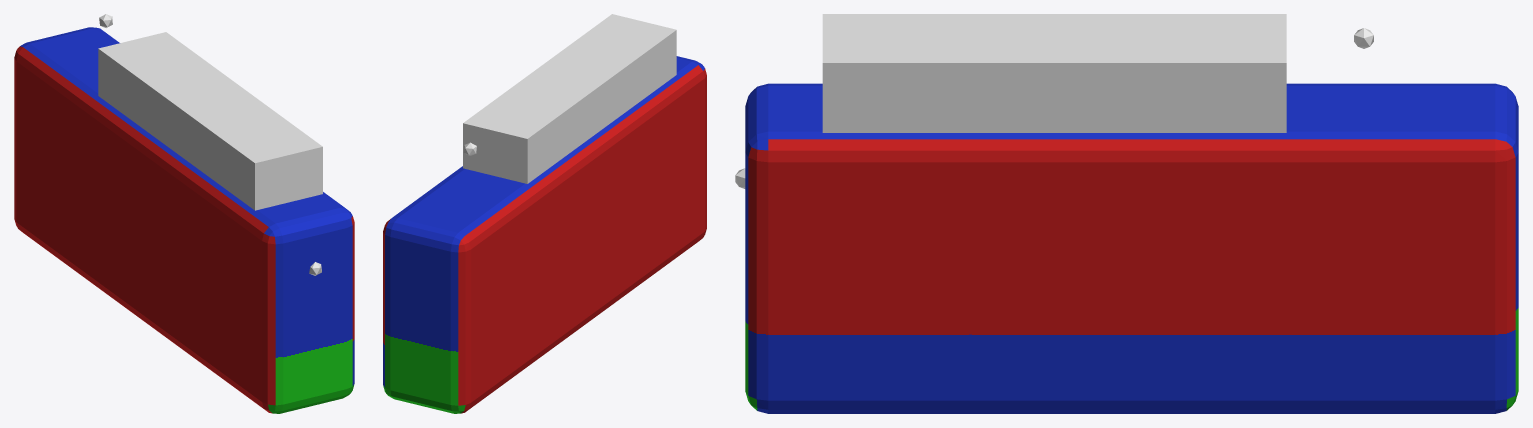
The model's file is PipelineTest.fbx.
3 views of the same model, side by side, from view 1: azimuth 30°, elevation 25°; view 2: azimuth 150°, elevation 25°; view 3: azimuth 270°, elevation 25° (orthographic). The views are drawn at different scales.
Visible parts, largest first — view 1: Handle, Slide; view 2: Handle, Slide; view 3: Handle, Slide.
Boxes of the visible parts, left/top/right/bottom form: Handle: left=14, top=27, right=354, bottom=413; Slide: left=98, top=32, right=322, bottom=210; Handle: left=383, top=56, right=706, bottom=413; Slide: left=463, top=14, right=676, bottom=183; Handle: left=745, top=83, right=1518, bottom=413; Slide: left=822, top=14, right=1286, bottom=132.
Size of the model in its own units: 0.2 by 0.515 by 1.01.
2 materials, 1 textured.
